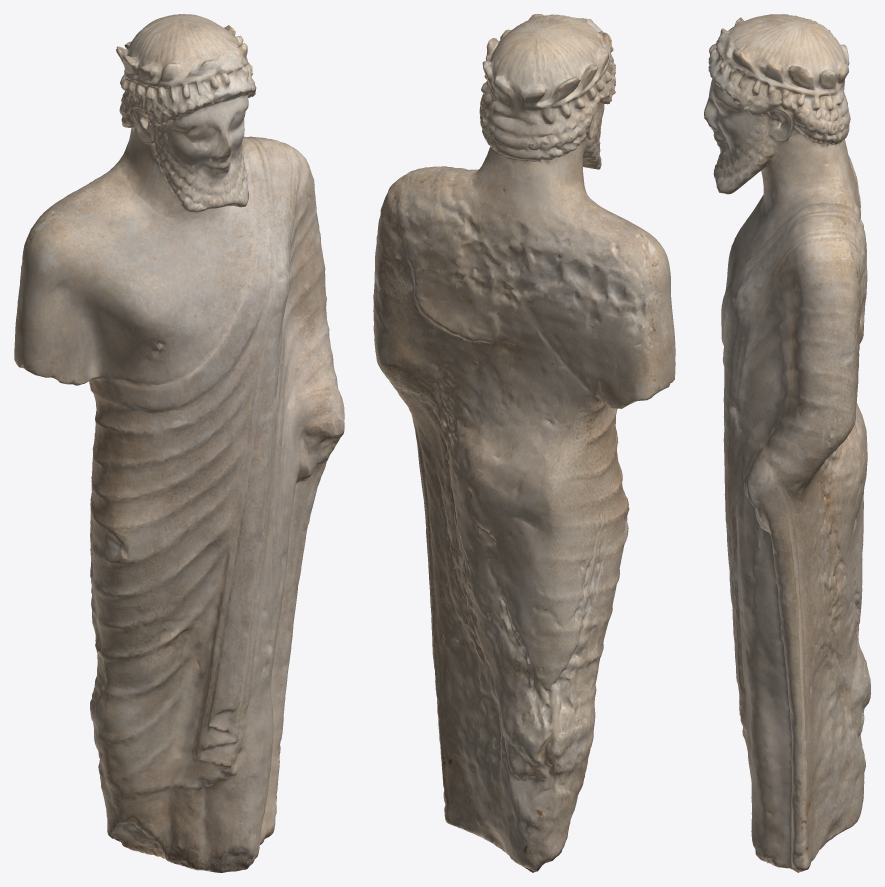
3 renders of one model, left to right at view 1: azimuth 30°, elevation 25°; view 2: azimuth 150°, elevation 25°; view 3: azimuth 270°, elevation 25°, orthographic. The views are drawn at different scales.
Visible parts, largest first — view 1: Object_2; view 2: Object_2; view 3: Object_2.
Part boxes in pixels (<box>): Object_2: <box>14,14,344,872</box>; Object_2: <box>373,14,675,872</box>; Object_2: <box>704,14,870,872</box>.
Bounding box in the file's own units: 0.5562 × 1.5 × 0.2768.
Materials: 1 (1 with a texture image).
